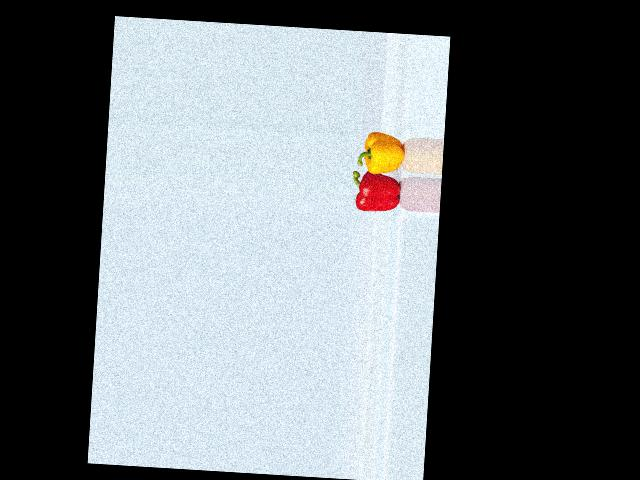bell_pepper: (351, 169, 406, 217)
